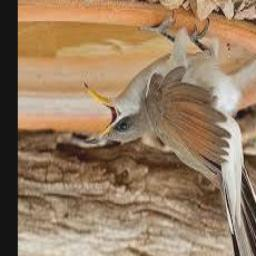Cuckoo: (83, 17, 256, 256)
